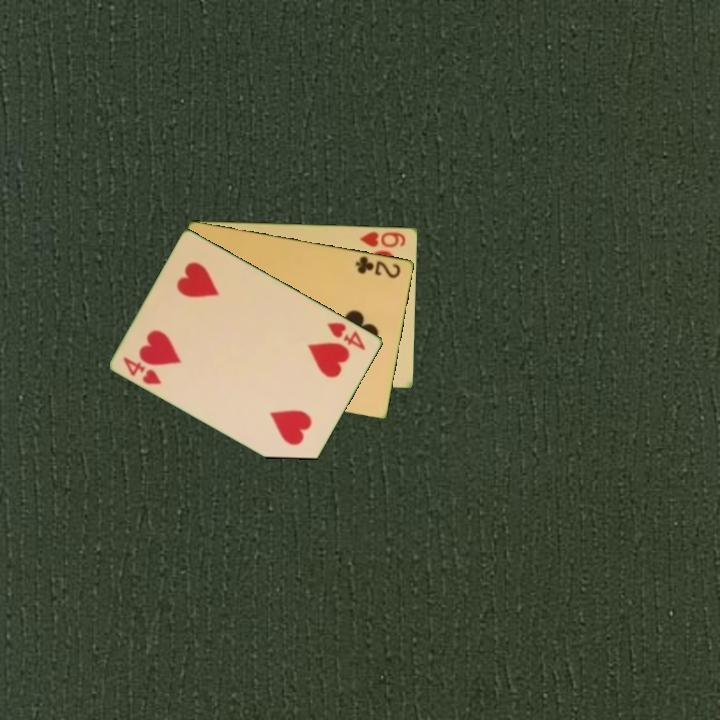2c: (352, 252, 404, 281)
4h: (324, 318, 369, 353), (120, 353, 165, 388)
6h: (356, 228, 408, 250)
